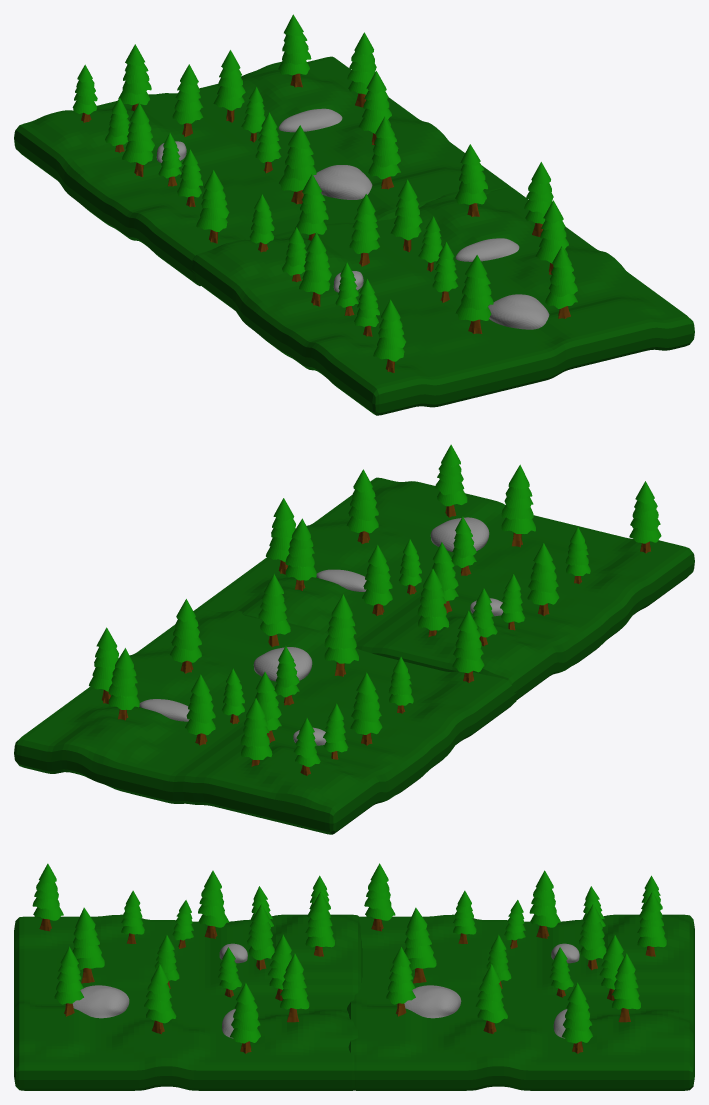
Rendered from Background.fbx.
3 renders of one model, top to bottom at view 1: azimuth 30°, elevation 25°; view 2: azimuth 150°, elevation 25°; view 3: azimuth 270°, elevation 25°, orthographic. The views are drawn at different scales.
Visible parts, largest first — view 1: plateau 1; view 2: plateau 1; view 3: plateau 1.
Boxes of the visible parts, x1,y1,x2,y2 form: plateau 1: [14, 14, 694, 415]; plateau 1: [14, 444, 694, 834]; plateau 1: [14, 863, 694, 1090].
Size of the model in its own units: 36360 by 12107 by 70901.
